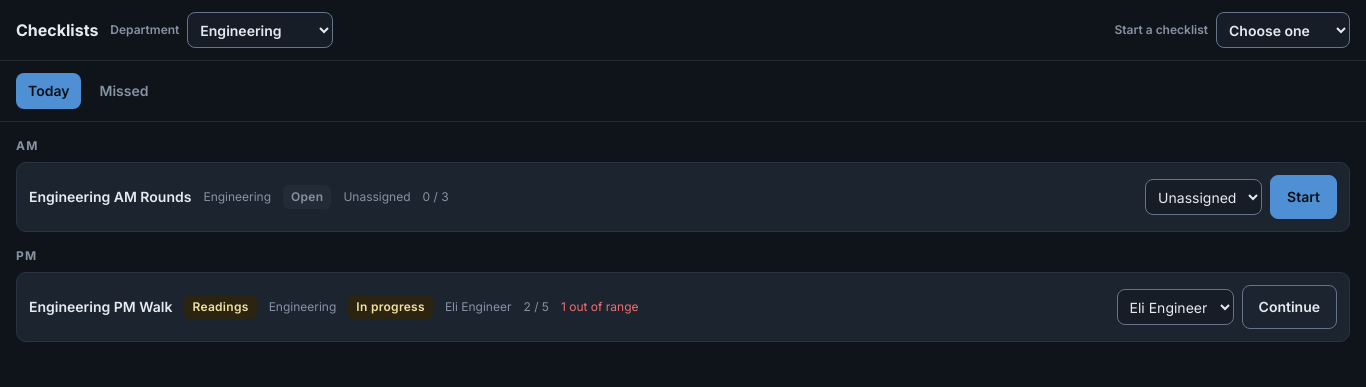
Test: ChecklistsPage › shows an inline error when assigning fails
Select "Eli Engineer" in the dropdown named "Assign Engineering AM Rounds". click: {"x": 1204, "y": 197}
box: [1145,179,1262,215]
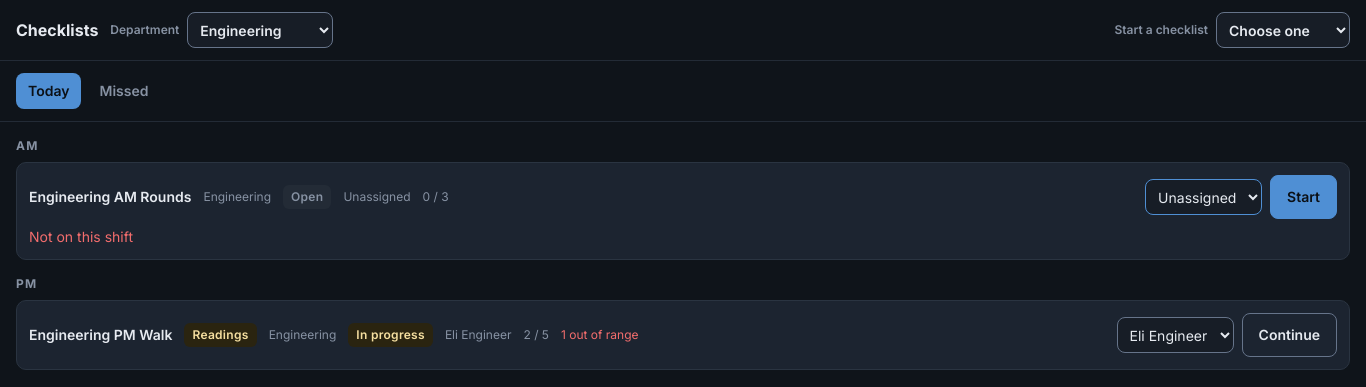
Expected: the message reads "Not on this shift", [29,228,133,245]
